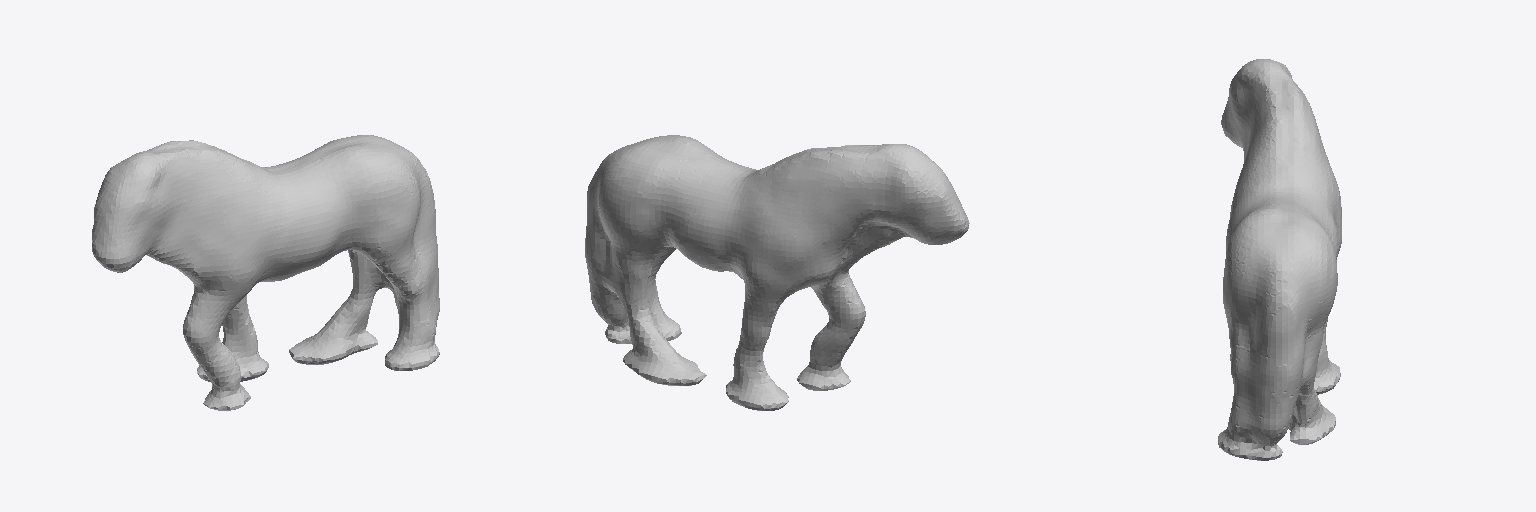
File: horse_test.obj
3 views of the same model, side by side, from view 1: azimuth 30°, elevation 25°; view 2: azimuth 150°, elevation 25°; view 3: azimuth 270°, elevation 25° (orthographic).
Visible parts, largest first — view 1: horsemodel_srgb; view 2: horsemodel_srgb; view 3: horsemodel_srgb.
Part boxes in pixels (bbox=[...]): horsemodel_srgb: bbox=[92, 135, 439, 410]; horsemodel_srgb: bbox=[585, 135, 969, 410]; horsemodel_srgb: bbox=[1218, 59, 1341, 460].
Size of the model in its own units: 4.19 by 3 by 1.26.